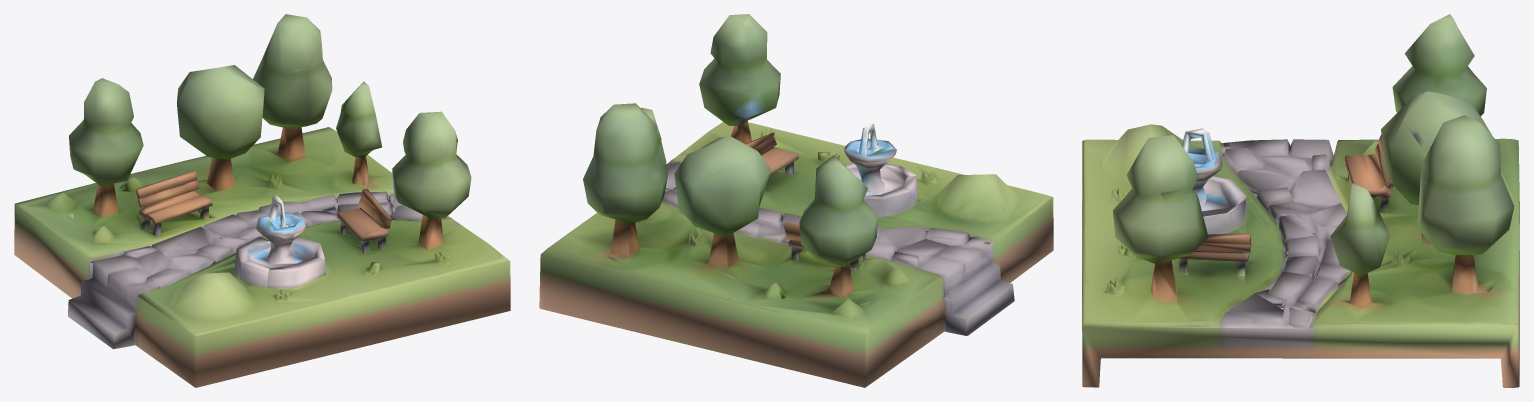
File: park.glb
3 renders of one model, left to right at view 1: azimuth 30°, elevation 25°; view 2: azimuth 150°, elevation 25°; view 3: azimuth 270°, elevation 25°, orthographic. The views are drawn at different scales.
Visible parts, largest first — view 1: node_0; view 2: node_0; view 3: node_0.
Part boxes in pixels (box(x1,y1,x2,y2)): node_0: box(14, 14, 510, 387); node_0: box(539, 14, 1053, 387); node_0: box(1082, 14, 1519, 387).
Size of the model in its own units: 0.82 by 0.4416 by 0.7631.
Materials: 1 (1 with a texture image).
